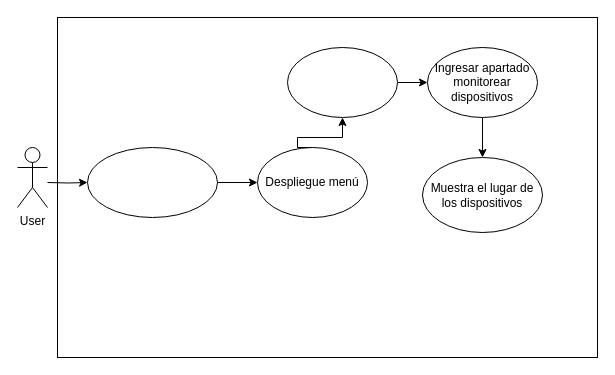
This 615x375 diagram has some shape labels left out. The shapes that lost their labels are listed below. From the top down, each one's centre as x and y in pixels, then its label:
the point at 342,82: Seleccionar Administrar dispositivos
the point at 152,182: Iniciar sesión
